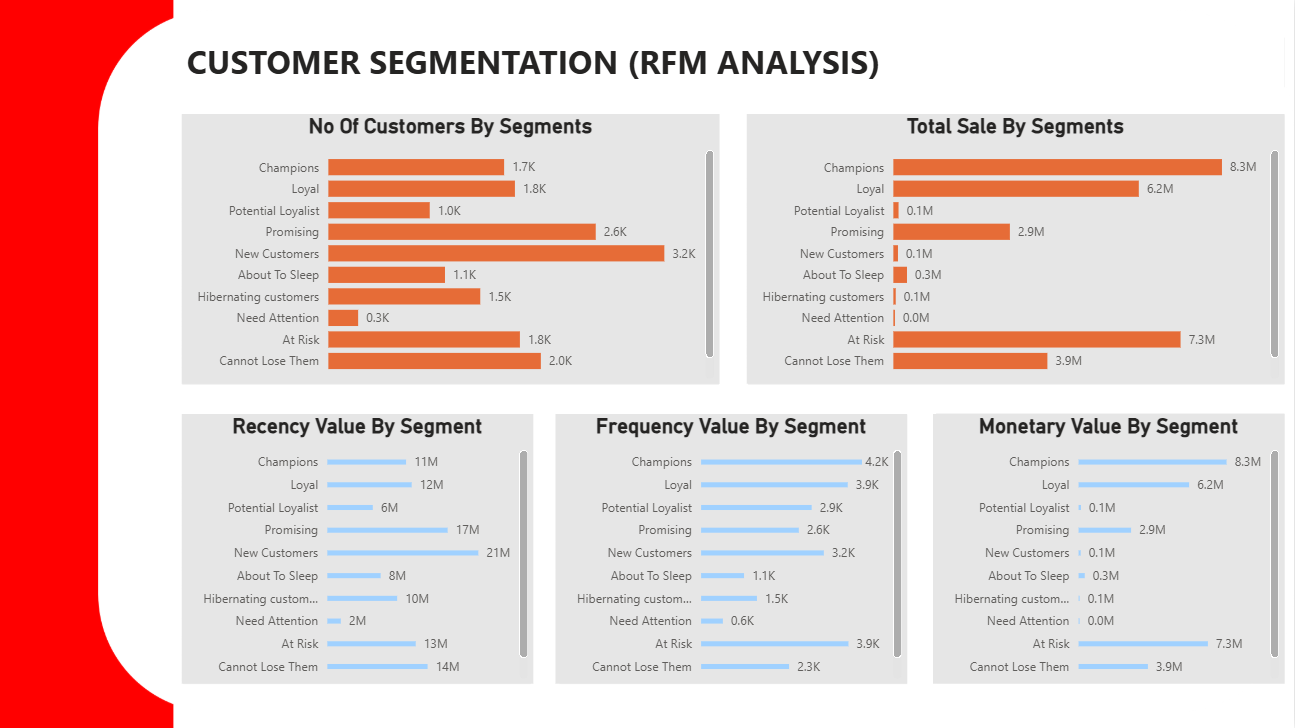

The dashboard page shown, as its layout file describes it:
{"tool":"powerbi","page":{"name":"Customer Segmentation","canvas":[1280,720],"ordinal":1},"visuals":[{"type":"barChart","title":"No Of Customers By Segments","fields":{"Y":["Count(FactInternetSales.CustomerKey)"],"Category":["Segments Table.Segment"]},"box":[181.5,113.6,530.9,266.7],"z":0},{"type":"barChart","title":"Total Sale By Segments","fields":{"Category":["Segments Table.Segment"],"Y":["Sum(FactInternetSales.SalesAmount)"]},"box":[739.5,113.6,530.9,266.7],"z":1000},{"type":"barChart","title":"Recency Value By Segment","fields":{"Y":["Sum(RFM Table.Recency Value)"],"Category":["Segments Table.Segment"]},"box":[181.5,409.9,346.9,266.7],"z":2000},{"type":"barChart","title":"Frequency Value By Segment","fields":{"Category":["Segments Table.Segment"],"Y":["Sum(RFM Table.Frequency Value)"]},"box":[550.6,409.9,346.9,266.7],"z":3000},{"type":"barChart","title":"Monetary Value By Segment","fields":{"Category":["Segments Table.Segment"],"Y":["Sum(RFM Table.Monetary Value)"]},"box":[923.5,409.9,346.9,266.7],"z":4000},{"type":"textbox","box":[181.5,34.6,1088.9,54.3],"z":5000}]}

Visuals, with their boxes in screenshot pixels (x1, y1, x2, y2), scaled from the page's 1280x720 canvas onto the 1295x728 screenshot:
"No Of Customers By Segments" barChart: [184,115,721,385]
"Total Sale By Segments" barChart: [748,115,1285,385]
"Recency Value By Segment" barChart: [184,414,535,684]
"Frequency Value By Segment" barChart: [557,414,908,684]
"Monetary Value By Segment" barChart: [934,414,1285,684]
textbox: [184,35,1285,90]
